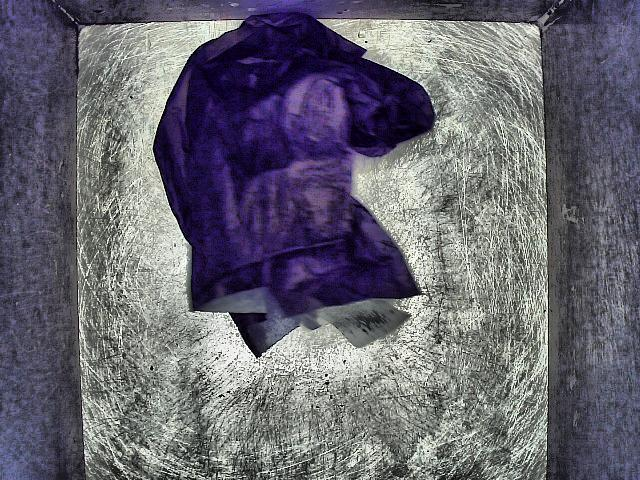Paper: (148, 5, 455, 359)
